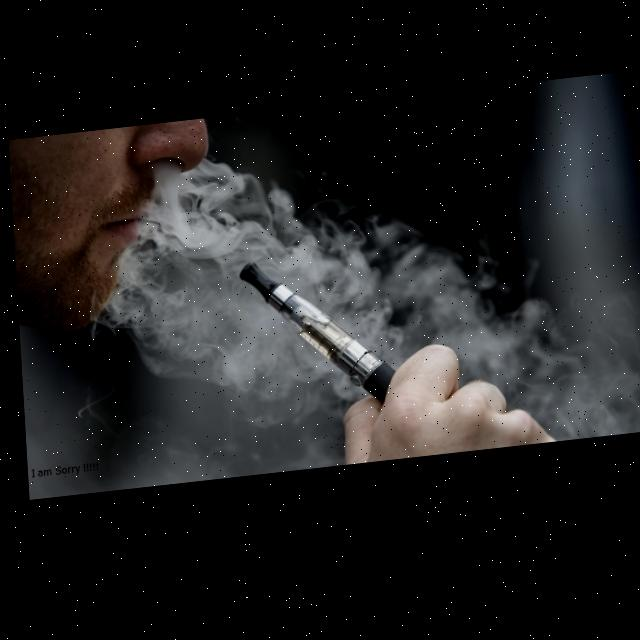vape: (234, 257, 392, 424)
